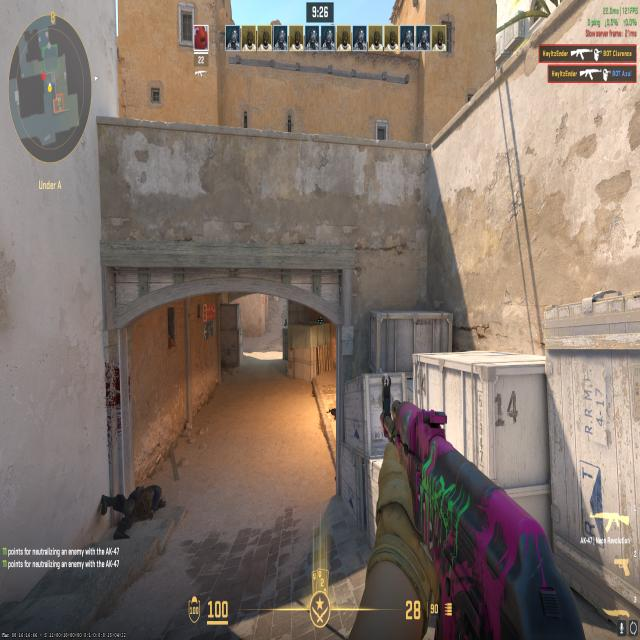ct: (282, 316, 286, 326)
